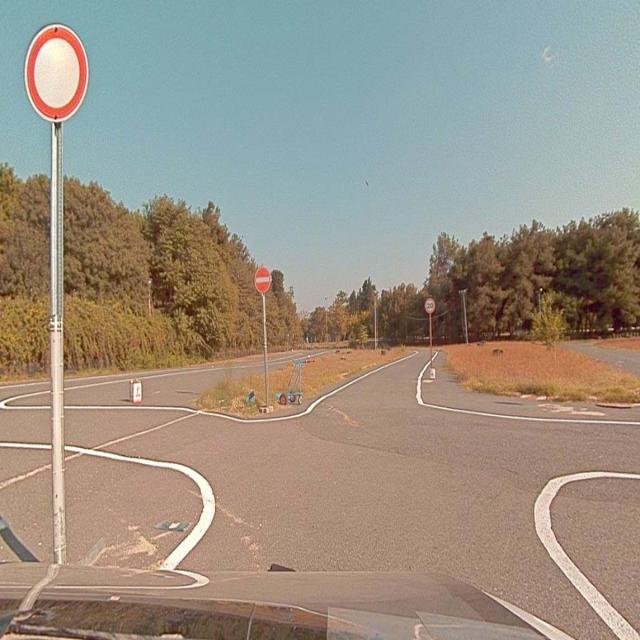20: (425, 298, 435, 313)
girisyok: (254, 268, 270, 292)
